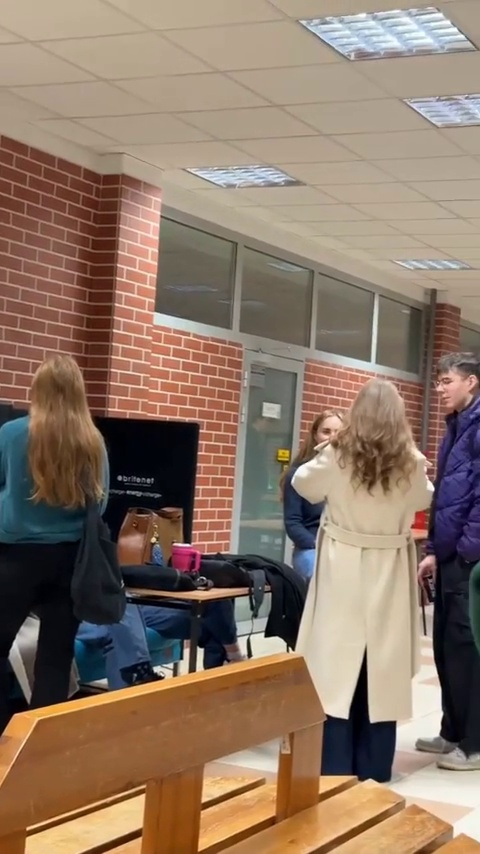no vest: (291, 370, 420, 725), (0, 356, 113, 711), (425, 317, 480, 721)
